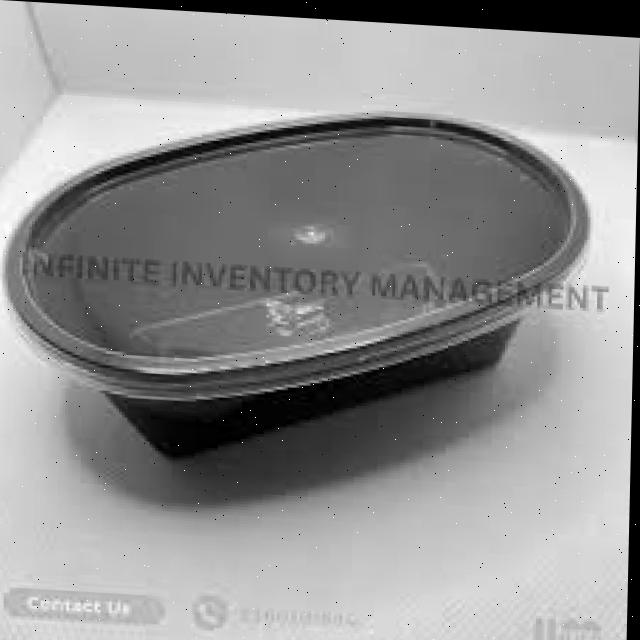disposable: (0, 74, 606, 492)
